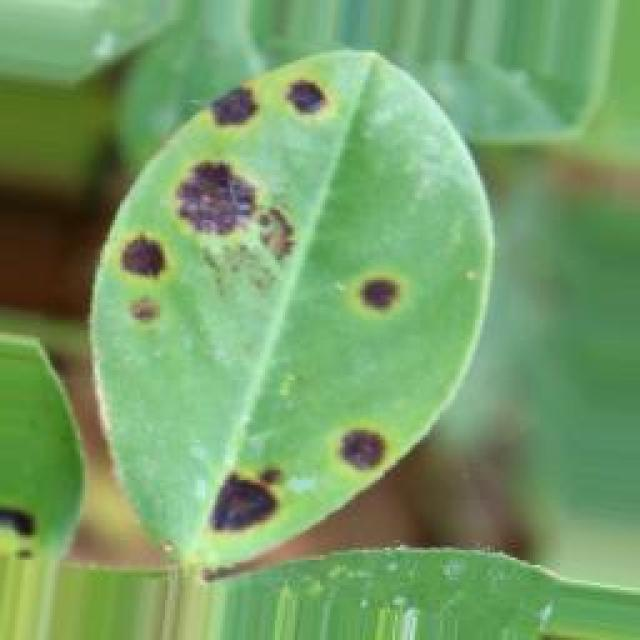Yellowish: (101, 66, 518, 548)
